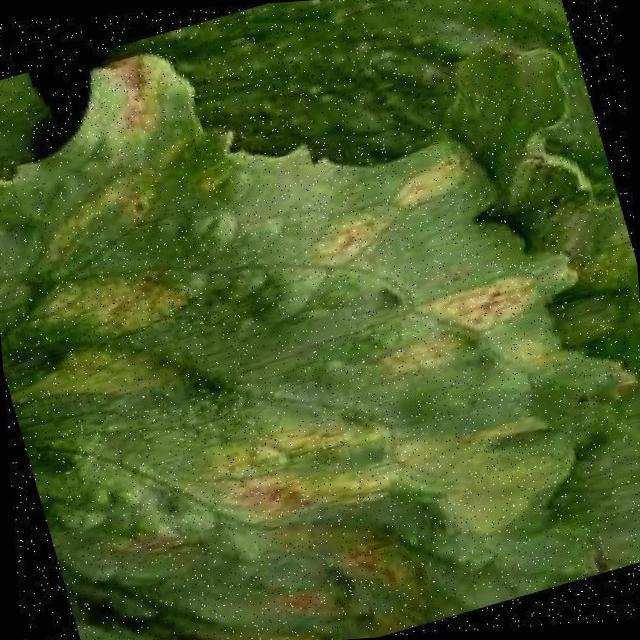Downy_mildew_on_lettuce: (0, 139, 613, 640)
